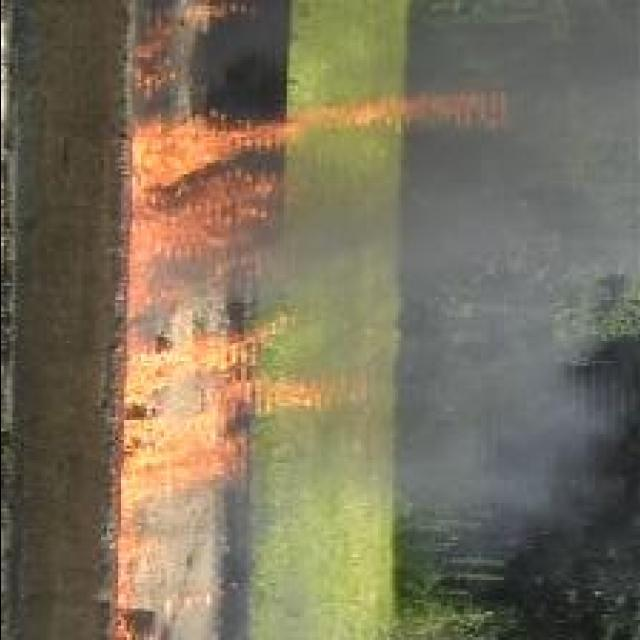Fire: (118, 3, 506, 640)
